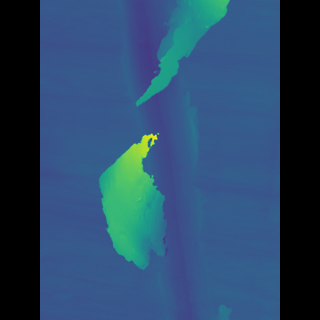Loch: (109, 0, 213, 320), (134, 0, 212, 114), (108, 134, 168, 276)
